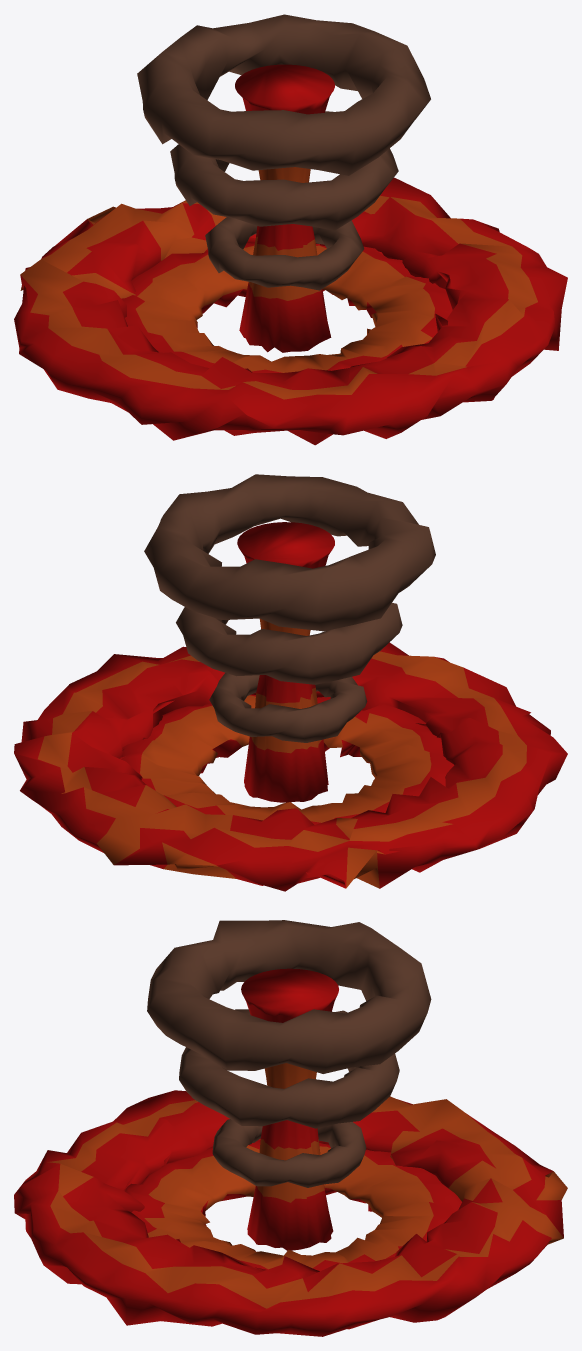
File: explosively_delicious_super.obj
The picture shows the model from 3 angles, top to bottom: view 1: azimuth 30°, elevation 25°; view 2: azimuth 150°, elevation 25°; view 3: azimuth 270°, elevation 25°; orthographic projection. The views are drawn at different scales.
Visible parts, largest first — view 1: Cube; view 2: Cube; view 3: Cube.
Boxes of the visible parts, <box> form: Cube: <box>14,14,567,445</box>; Cube: <box>14,474,567,891</box>; Cube: <box>14,920,567,1336</box>.
Bounding box in the file's own units: 12.8 × 7.23 × 12.92.
